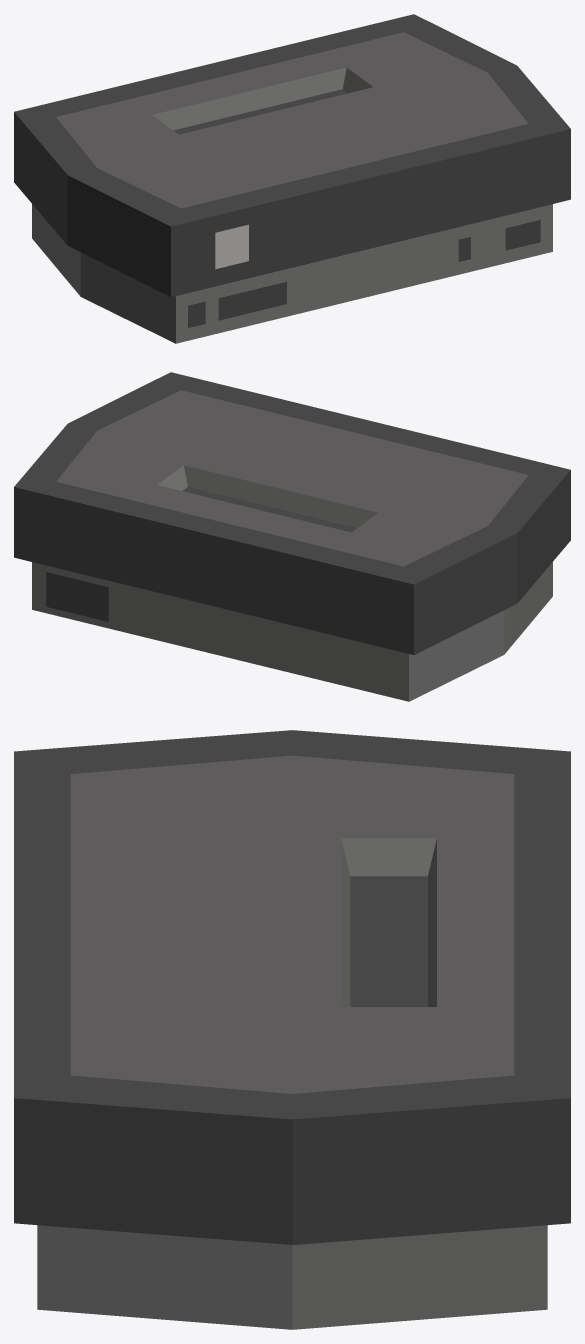
The model's file is SM_Prop_Game_Console_03.fbx.
3 renders of one model, top to bottom at view 1: azimuth 30°, elevation 25°; view 2: azimuth 150°, elevation 25°; view 3: azimuth 270°, elevation 25°, orthographic. The views are drawn at different scales.
Parts seen in each view (by area): view 1: SM_Prop_Game_Console_03; view 2: SM_Prop_Game_Console_03; view 3: SM_Prop_Game_Console_03.
Boxes of the visible parts, x1,y1,x2,y2 form: SM_Prop_Game_Console_03: (14, 14, 570, 343); SM_Prop_Game_Console_03: (14, 372, 570, 701); SM_Prop_Game_Console_03: (14, 730, 570, 1329).
Size of the model in its own units: 47.83 by 12.7 by 28.92.
